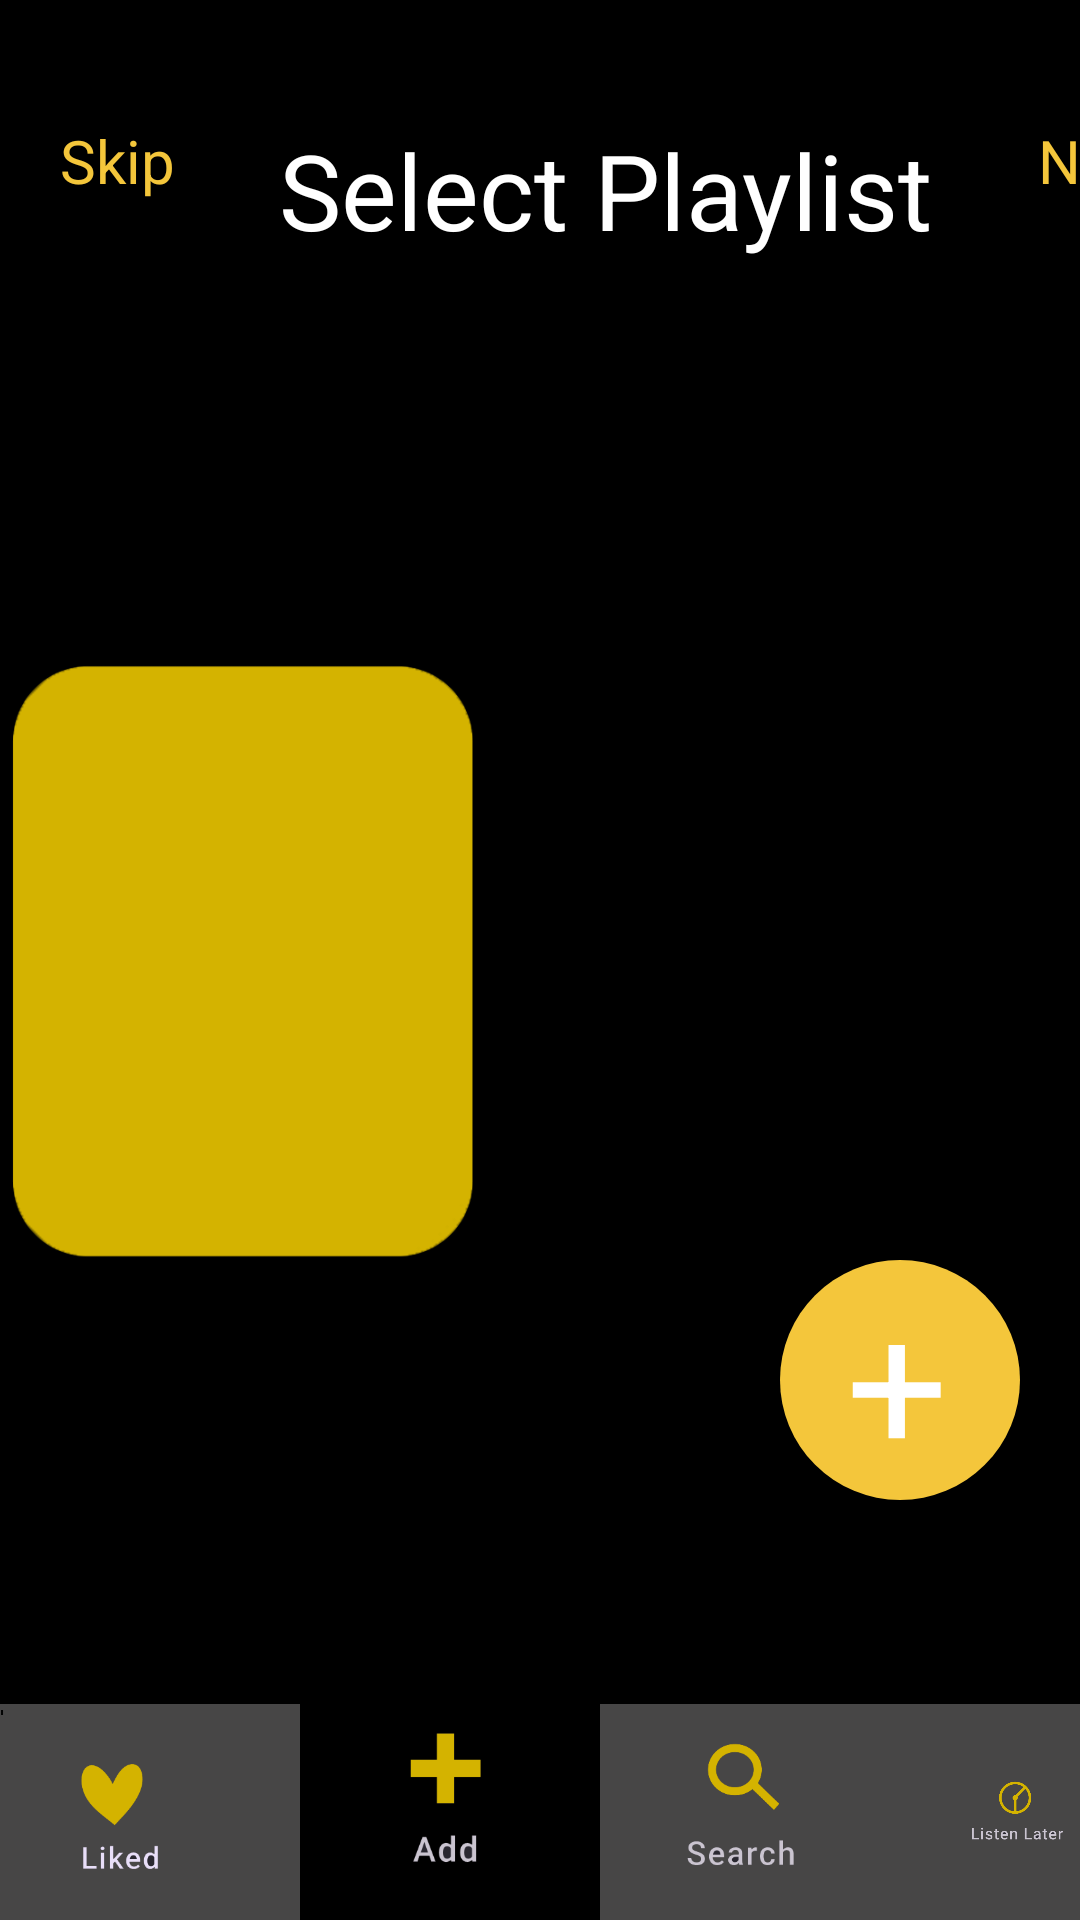

Point at icon controls on the screen. Image size 1080 × 1920, points as (x,y).
circle: (900,1380)
